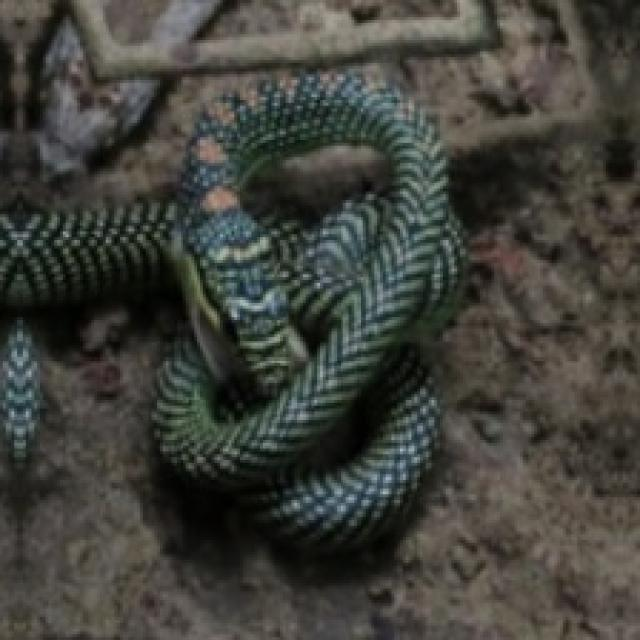paradise tree snake: (0, 74, 460, 549)
